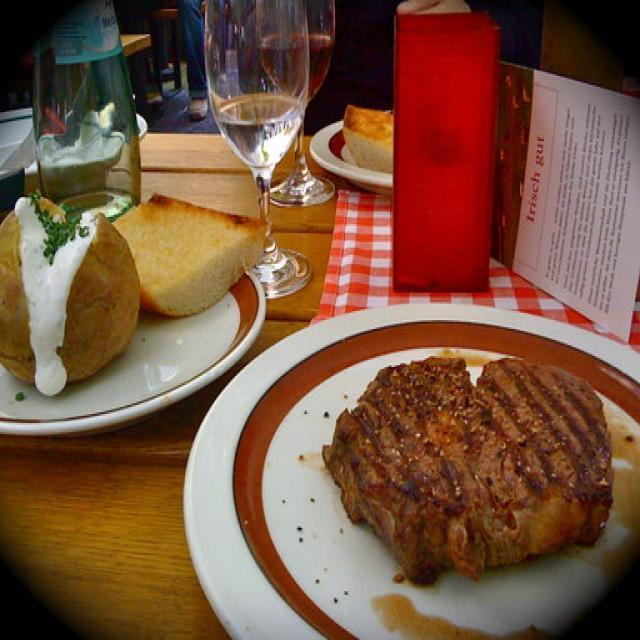Steak: (311, 325, 610, 583)
